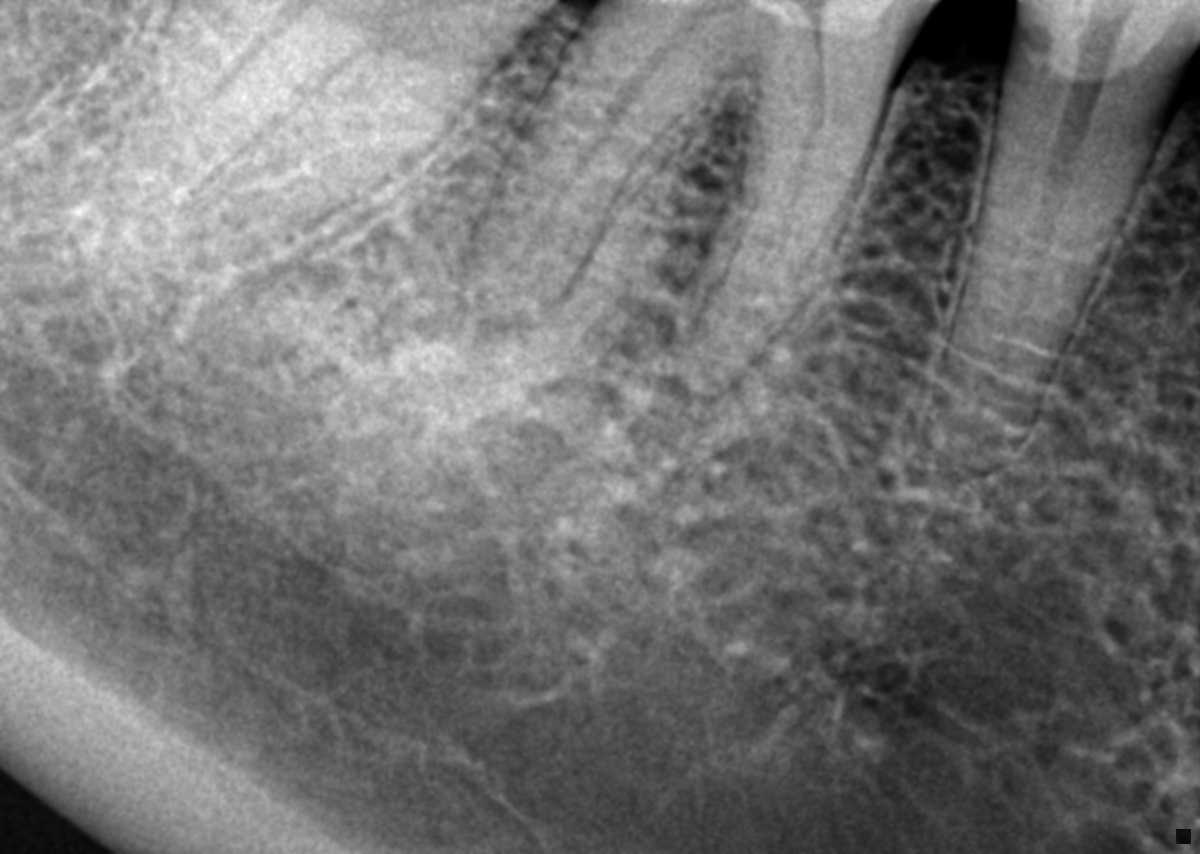Apical Lesion: (422, 191, 530, 365), (615, 329, 741, 450)
Distal Canal: (483, 24, 700, 318), (190, 0, 313, 123)
Distal Root: (457, 2, 752, 324), (109, 0, 362, 210)
Main Canal: (1001, 82, 1109, 357)
Main Root: (922, 49, 1186, 474)
Mesial Canal: (785, 43, 829, 232)
Mesial Root: (673, 18, 902, 400), (157, 54, 477, 266)
